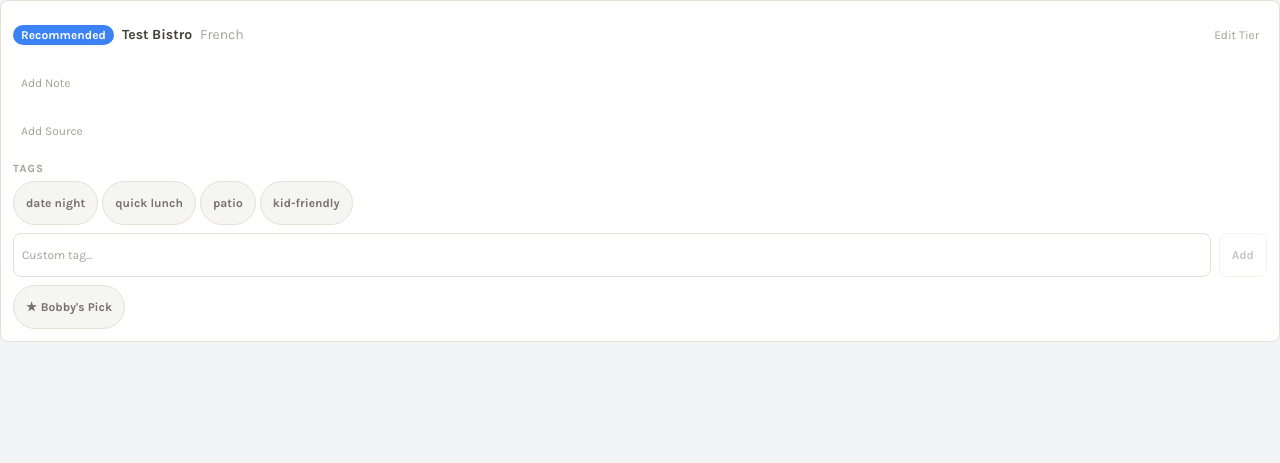
SessionRestaurantCard — mutual exclusion (AC 2, 5) › opening note editor while tier edit is open closes tier edit
The image size is (1280, 463).
// Open tier edit
Click the button "Edit Tier" at (1237, 35), box [1206, 13, 1267, 57]
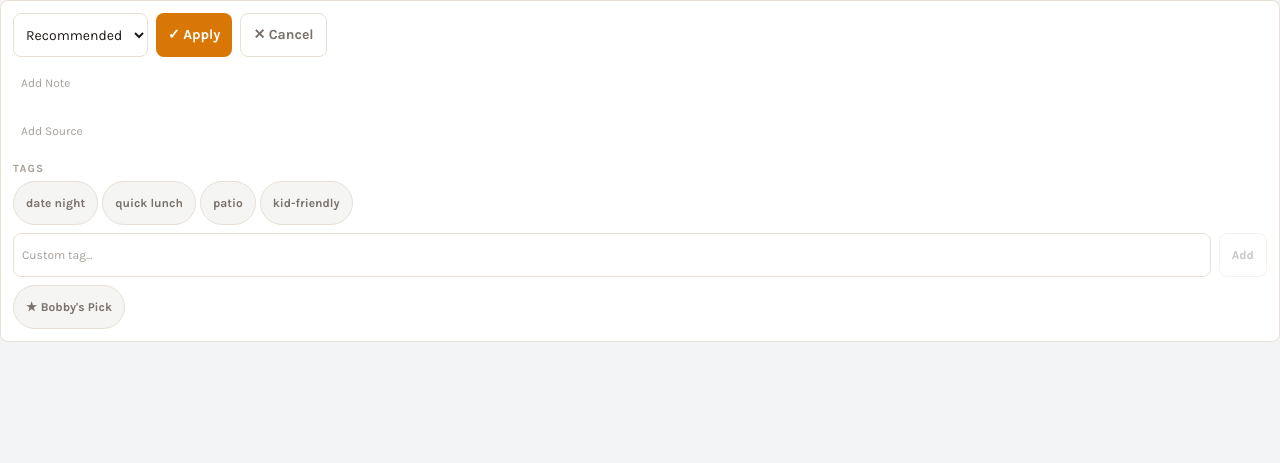
Check: the dropdown is shown, box [13, 13, 148, 57]
// Open note editor — tier edit should close
Click the button with aria-label "add note for test bistro" at (46, 83), box [13, 61, 78, 105]
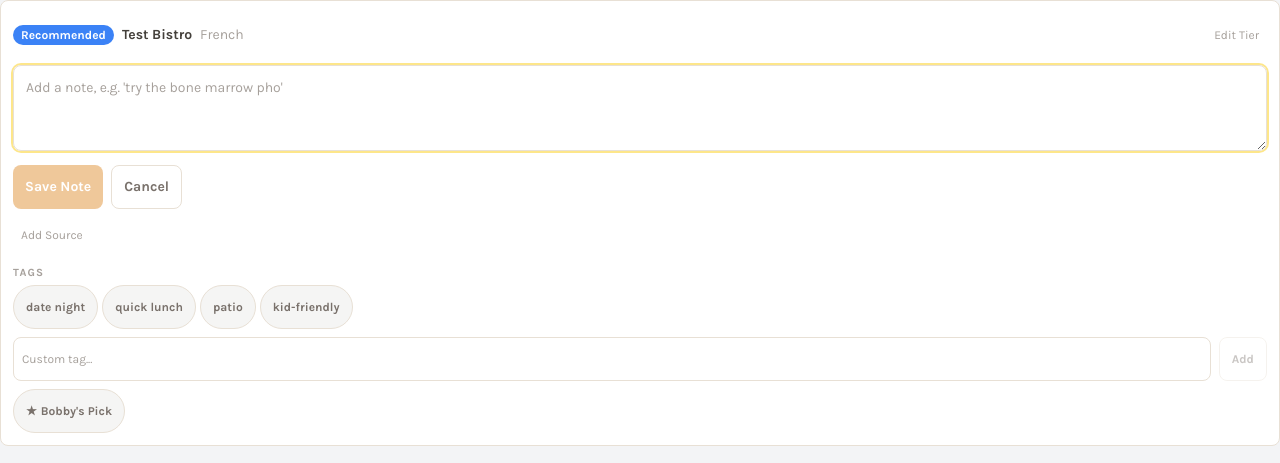
Check: the dropdown is gone
Check: the text box with test id "note-textarea" is shown, box [13, 65, 1267, 151]
